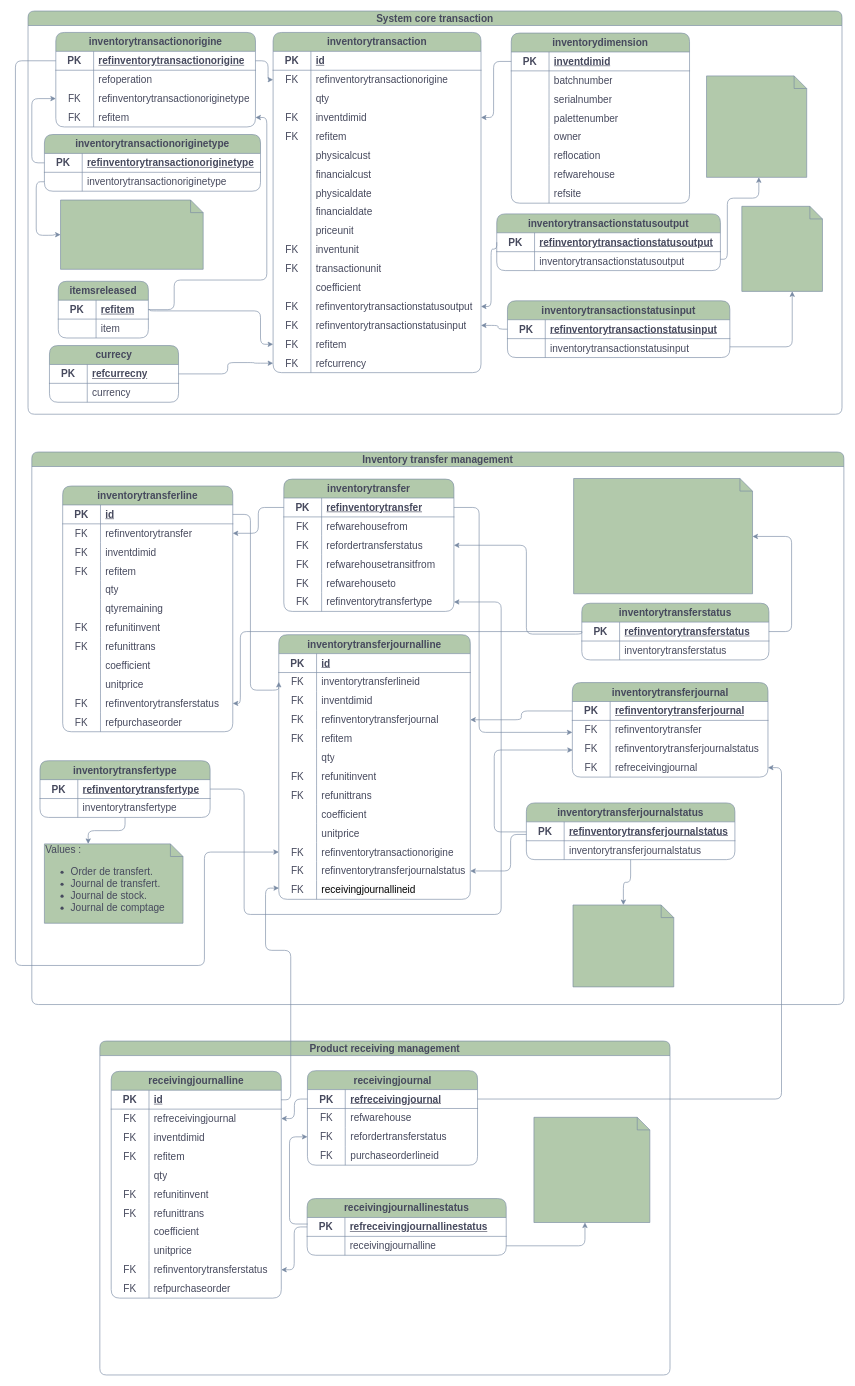
The diagram is 855 pixels wide and 1386 high, and some of its shapes have lost their labels. The shapes that lost their labels are listed below. From the top down, each one's centre as x and y in pixels, then its label:
the point at 756,126: Values : Vendu. Prélevé. Commandé. Physique reservé. ""
the point at 131,234: Values : Commande Fournisseur Commande vente journal de transfert
the point at 781,248: Values : Acheté Reçu Commandé ""
the point at 663,536: Values : créer en revision Approuver Rejeter Expédier reçu annuler
the point at 623,945: Values : créer Approuver annuler
the point at 591,1170: Values : créer en revision Approuver Rejeter reçu annuler
